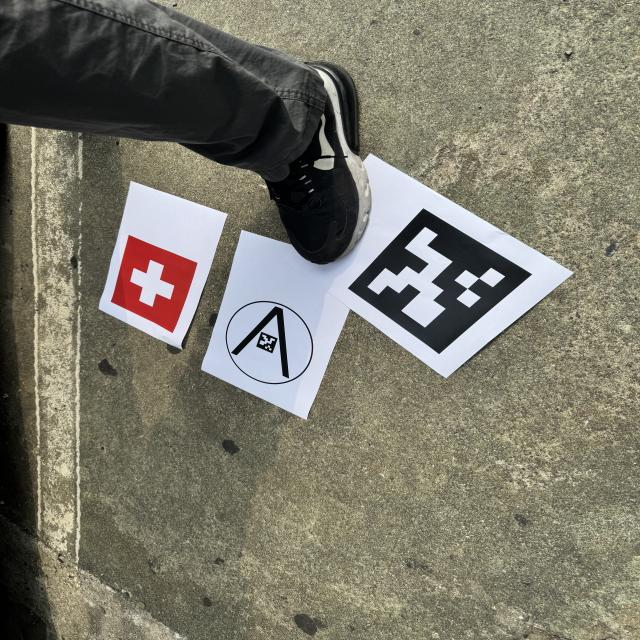ArUro mark: (341, 205, 539, 359)
rescue point: (107, 231, 201, 335)
vertiport: (222, 298, 318, 386)
